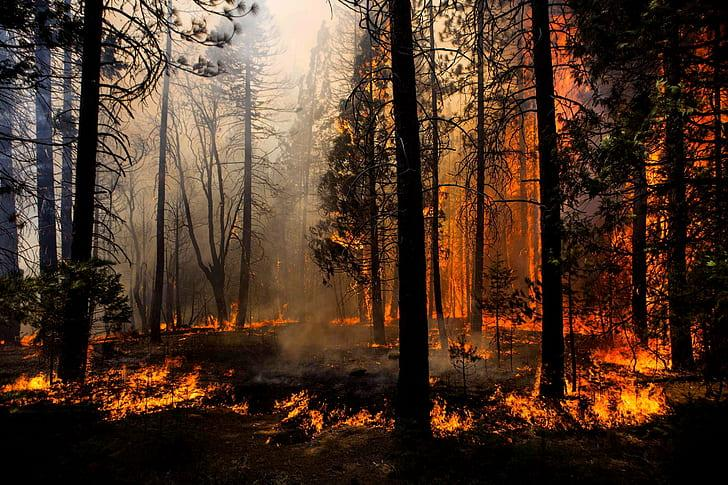fire: (0, 118, 416, 458), (447, 0, 718, 463)
